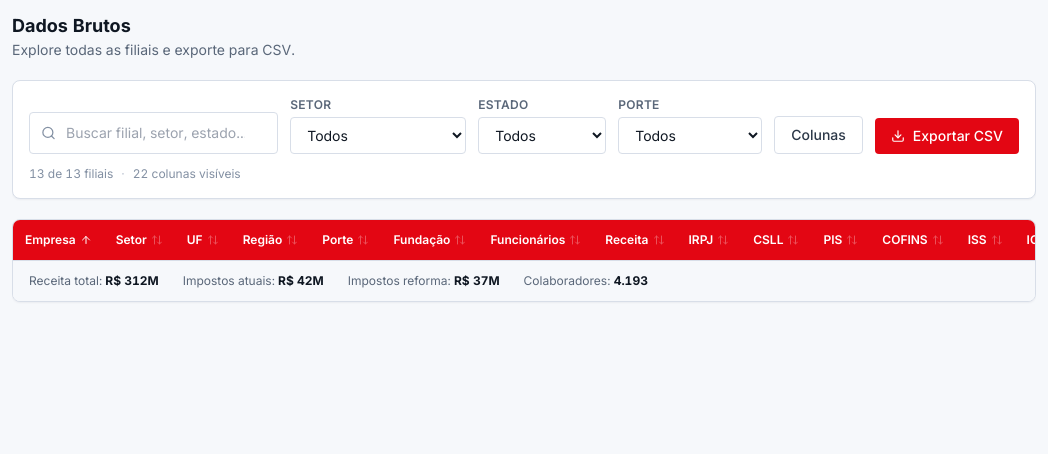
RawDataPage › shows empty state when no results
This screenshot has width=1048, height=454.
Step 1. Type "ZZZ_NOTEXIST_XYZABC" into the field with placeholder "Buscar filial, setor, estado..." → (154, 133), box [29,112,278,154]
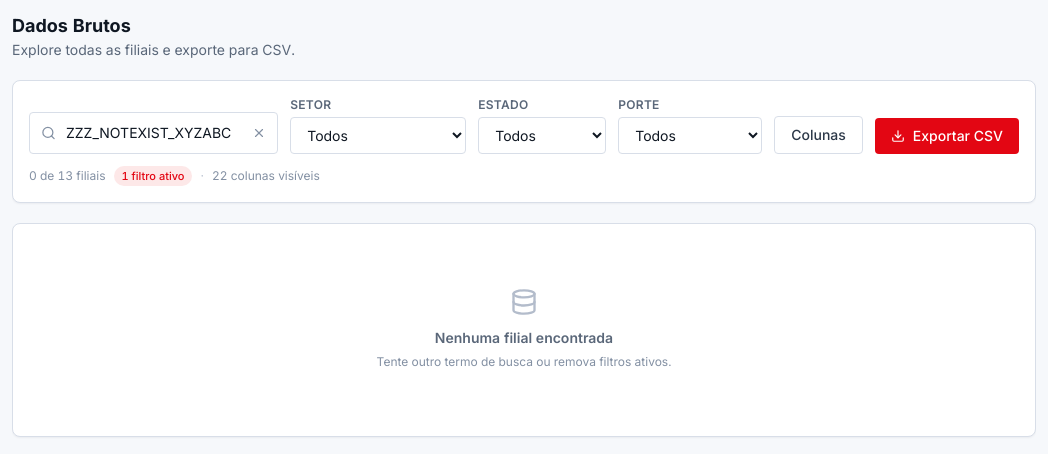
Check: the text "Nenhuma filial encontrada" is shown, box [435,328,613,348]
